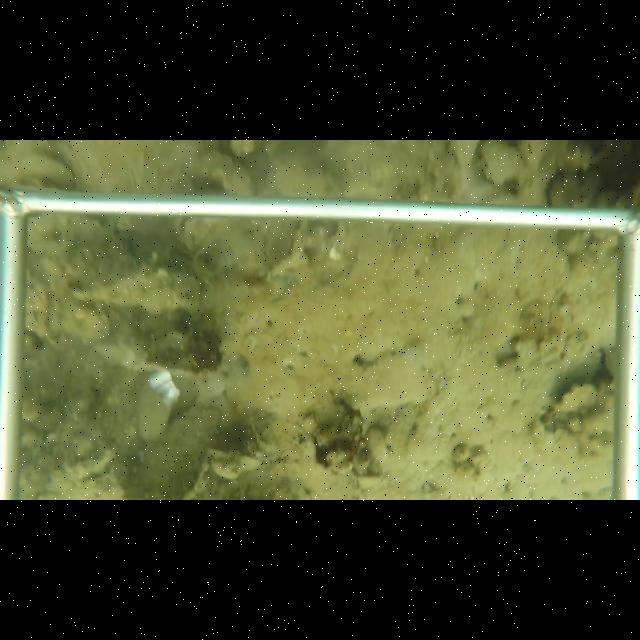Oyster-Closed: (16, 150, 76, 188)
